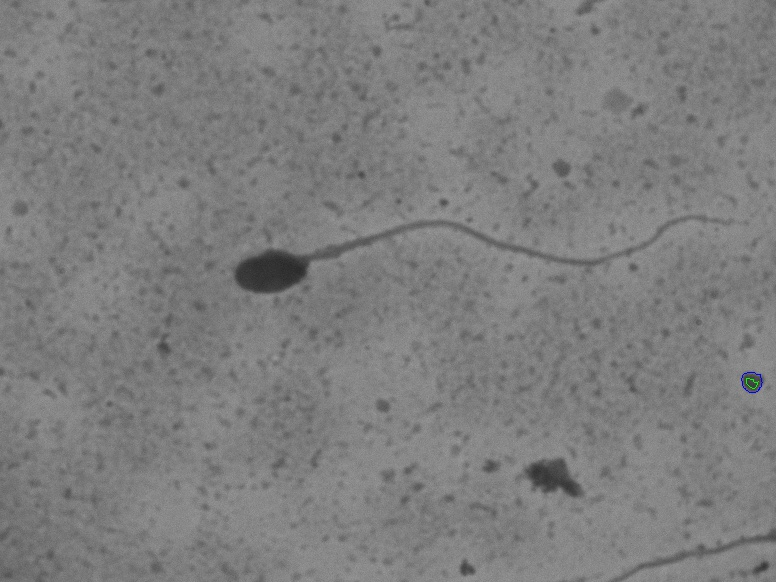Abnormal: (202, 169, 743, 322)
